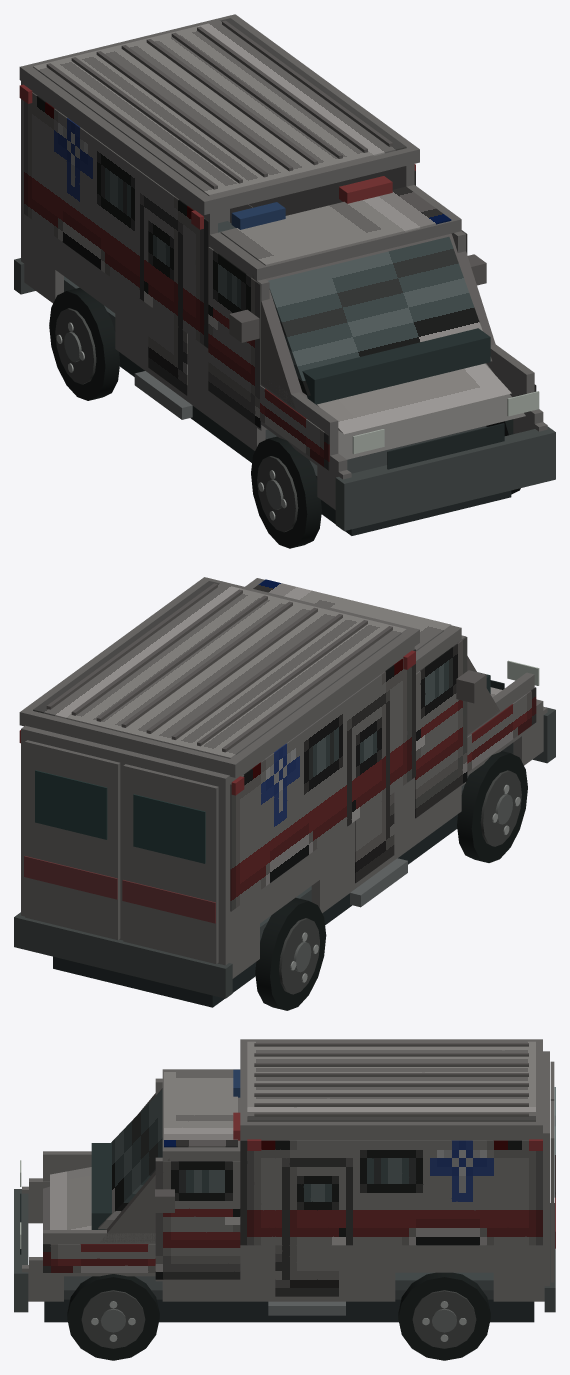
File: CMU3DRMCPropVehicleAmbulanceF.glb
3 renders of one model, top to bottom at view 1: azimuth 30°, elevation 25°; view 2: azimuth 150°, elevation 25°; view 3: azimuth 270°, elevation 25°, orthographic. The views are drawn at different scales.
Parts seen in each view (by area): view 1: original ribbed roof, cab sloping windshield, original medical side -1 2, front bumper, medical roof, original cab roof, original cab door -1, dashboard, hood top original, original medical side -1 1, cab windshield surround, cab roof (+31 smaller); view 2: original ribbed roof, original medical side -1 2, inferred rear medical door -1, inferred rear medical door 1, medical roof, original cab door -1, rear bumper, medical rear closure, original medical side -1 1, medical side wall -1, lower skirt -1 1, rear medical glazing 1 (+29 smaller); view 3: original medical side 1 2, original ribbed roof, original cab door 1, medical roof, original medical side 1 1, medical side wall 1, ladder chassis, original cab roof, lower skirt 1 1, cab sloping windshield, tire 2 1, original medical side 1 0 (+33 smaller).
Part boxes in pixels (x1,y1,x2,y2): original ribbed roof: [33, 18, 406, 196]; cab sloping windshield: [268, 236, 482, 395]; original medical side -1 2: [24, 92, 148, 304]; front bumper: [335, 426, 555, 531]; medical roof: [19, 14, 419, 214]; original cab roof: [220, 186, 451, 265]; original cab door -1: [208, 247, 260, 428]; dashboard: [302, 328, 490, 404]; hood top original: [316, 363, 511, 434]; original medical side -1 1: [148, 177, 187, 332]; cab windshield surround: [252, 233, 495, 408]; cab roof: [210, 185, 461, 280]; original ribbed roof: [33, 581, 406, 758]; original medical side -1 2: [230, 693, 355, 911]; inferred rear medical door -1: [123, 764, 218, 964]; inferred rear medical door 1: [25, 740, 120, 940]; medical roof: [19, 577, 419, 777]; original cab door -1: [415, 636, 467, 818]; rear bumper: [14, 912, 232, 998]; medical rear closure: [21, 725, 238, 966]; original medical side -1 1: [355, 665, 394, 819]; medical side wall -1: [222, 647, 414, 940]; lower skirt -1 1: [311, 785, 461, 913]; rear medical glazing 1: [35, 770, 107, 839]; original medical side 1 2: [339, 1140, 542, 1245]; original ribbed roof: [247, 1041, 535, 1121]; original cab door 1: [155, 1161, 240, 1279]; medical roof: [240, 1039, 542, 1136]; original medical side 1 1: [275, 1140, 338, 1245]; medical side wall 1: [240, 1136, 542, 1272]; ladder chassis: [44, 1299, 534, 1322]; original cab roof: [164, 1072, 237, 1147]; lower skirt 1 1: [162, 1268, 395, 1301]; cab sloping windshield: [98, 1089, 162, 1229]; tire 2 1: [398, 1272, 490, 1360]; original medical side 1 0: [240, 1140, 275, 1245].
Size of the model in its own units: 1.03 by 1.17 by 2.4.
Materials: 33 (10 with a texture image).
